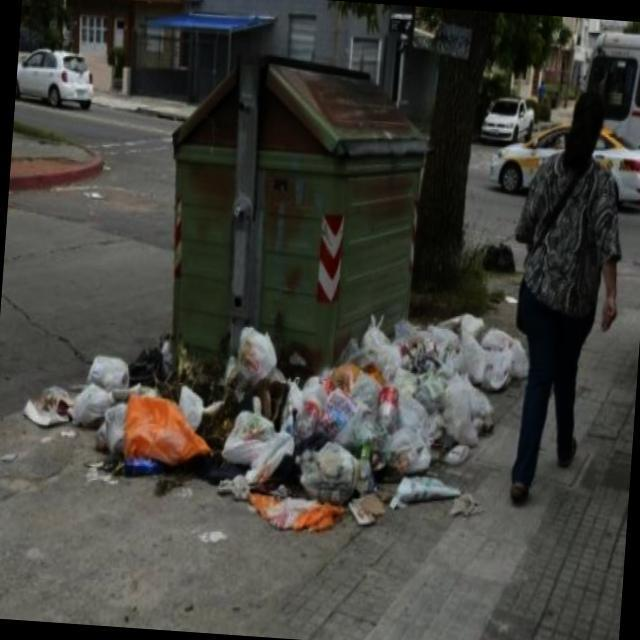garbage: (97, 348, 346, 511), (360, 324, 471, 508), (70, 348, 158, 496), (310, 339, 384, 503), (388, 299, 524, 386), (408, 322, 485, 434), (16, 374, 97, 454), (472, 230, 514, 292)
